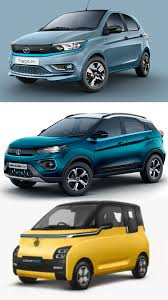Tiago: (7, 7, 152, 92)
